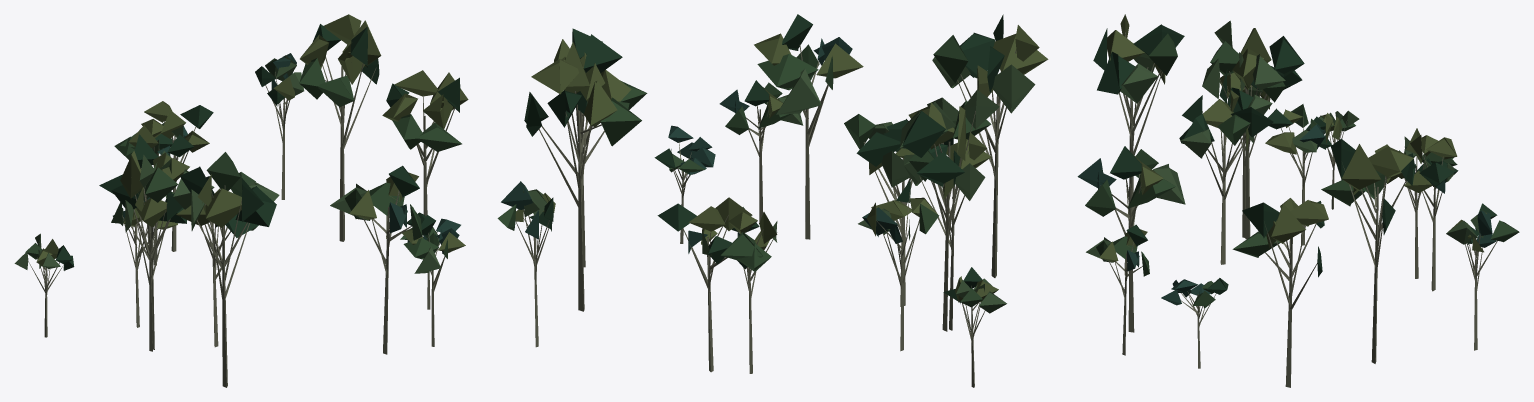
File: forest_23_19.dae
3 renders of one model, left to right at view 1: azimuth 30°, elevation 25°; view 2: azimuth 150°, elevation 25°; view 3: azimuth 270°, elevation 25°, orthographic. The views are drawn at different scales.
Parts seen in each view (by area): view 1: Node; view 2: Node; view 3: Node.
Part boxes in pixels (left/top/right/bottom): Node: left=14, top=14, right=468, bottom=387; Node: left=497, top=14, right=1048, bottom=387; Node: left=1077, top=14, right=1519, bottom=387.
Size of the model in its own units: 10.86 by 9.65 by 5.69.
